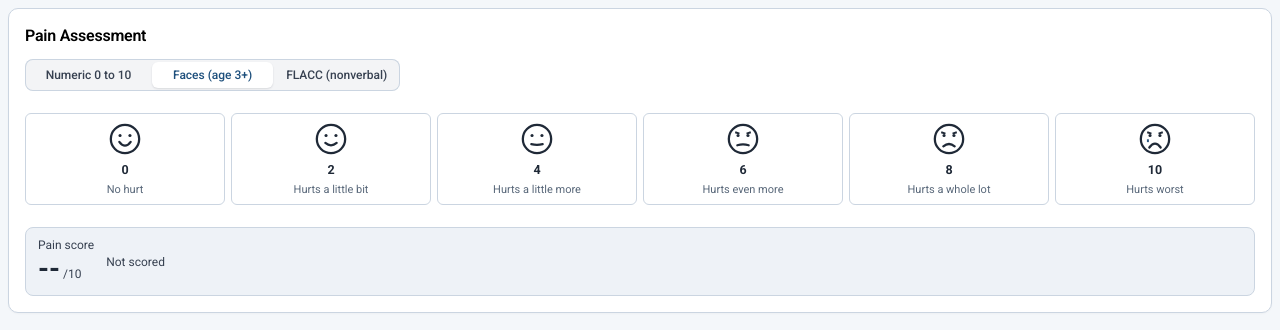
Test: PainScale › faces score in steps of 2
Click the radio button labelled "4 Hurts a little more".
click(537, 159)  # box [437,113,637,205]
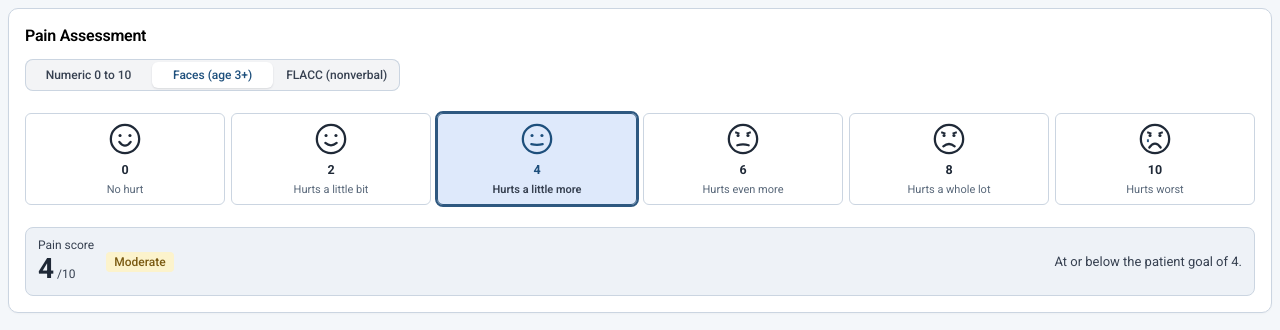
Check: the message shows "4 /10", box [25,227,1255,296]
Check: the message shows "Moderate", box [114,254,166,268]
Check: the message shows "At or below the patient goal of 4.", box [1054,254,1242,269]
